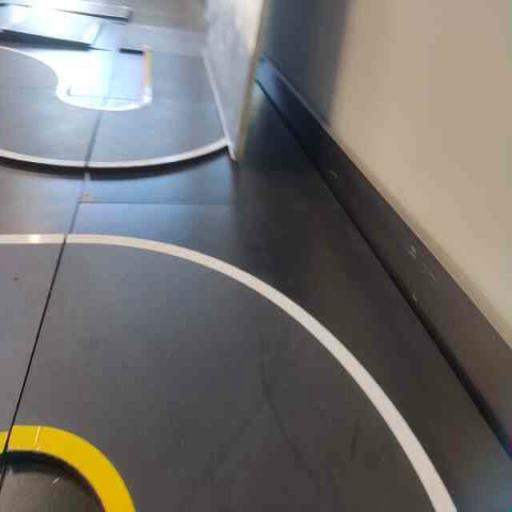left: (0, 234, 469, 511)
